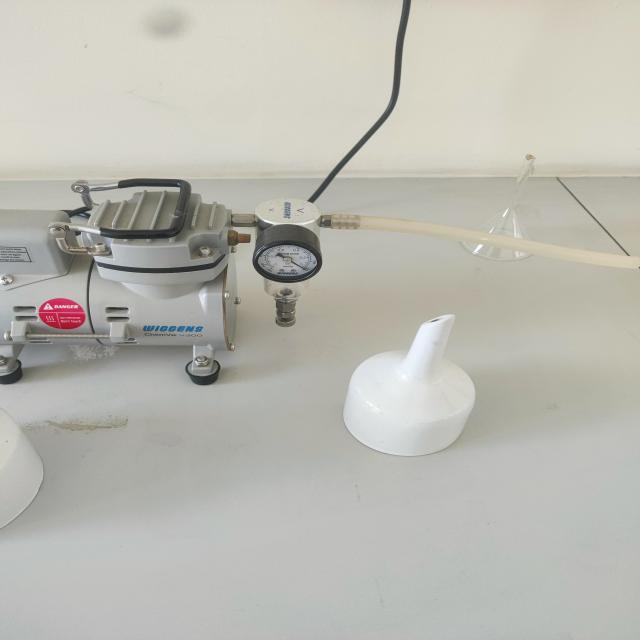Buchner_Funnel: (321, 296, 504, 471)
